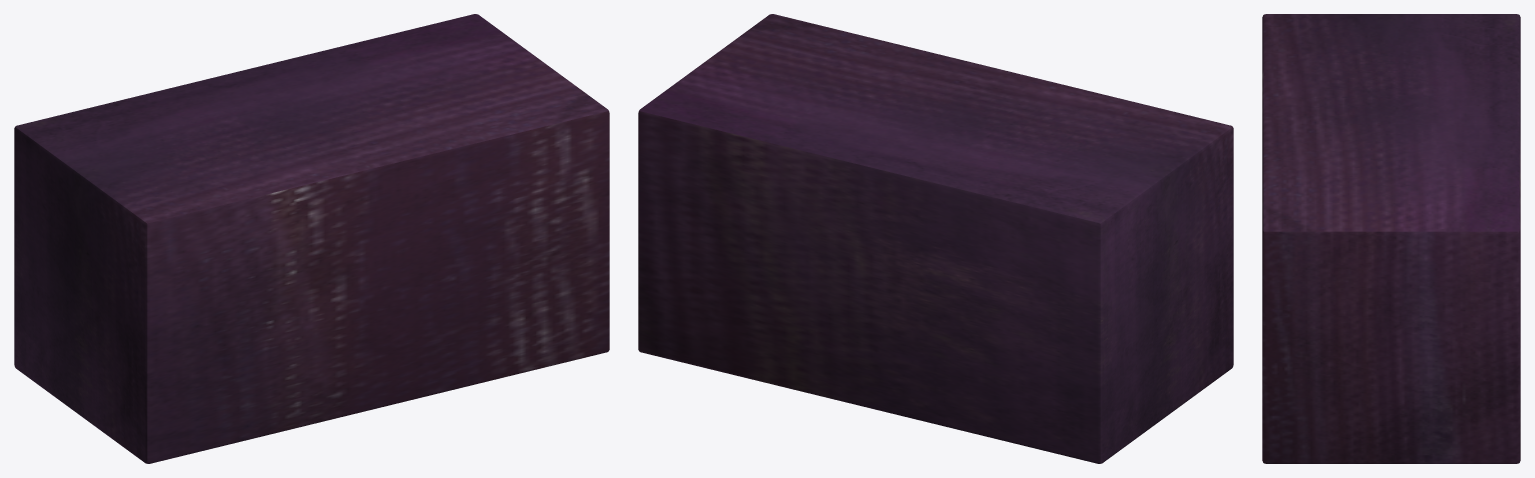
Rendered from MANOR_GROUND_2.obj.
The picture shows the model from 3 angles, left to right: view 1: azimuth 30°, elevation 25°; view 2: azimuth 150°, elevation 25°; view 3: azimuth 270°, elevation 25°; orthographic projection. The views are drawn at different scales.
Parts seen in each view (by area): view 1: MANOR_GROUND_2.003; view 2: MANOR_GROUND_2.003; view 3: MANOR_GROUND_2.003.
Part boxes in pixels (x1=…): MANOR_GROUND_2.003: x1=14, y1=14, x2=609, y2=463; MANOR_GROUND_2.003: x1=638, y1=14, x2=1233, y2=463; MANOR_GROUND_2.003: x1=1262, y1=14, x2=1520, y2=463.
Bounding box in the file's own units: 2 × 1 × 1.
